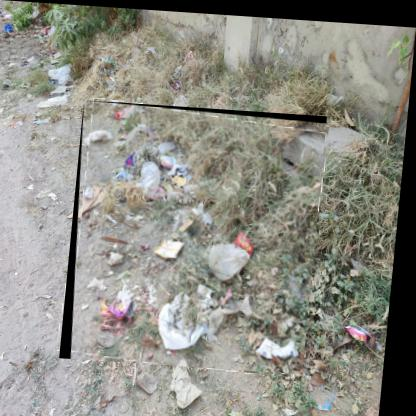Garbage: (67, 100, 331, 372)
